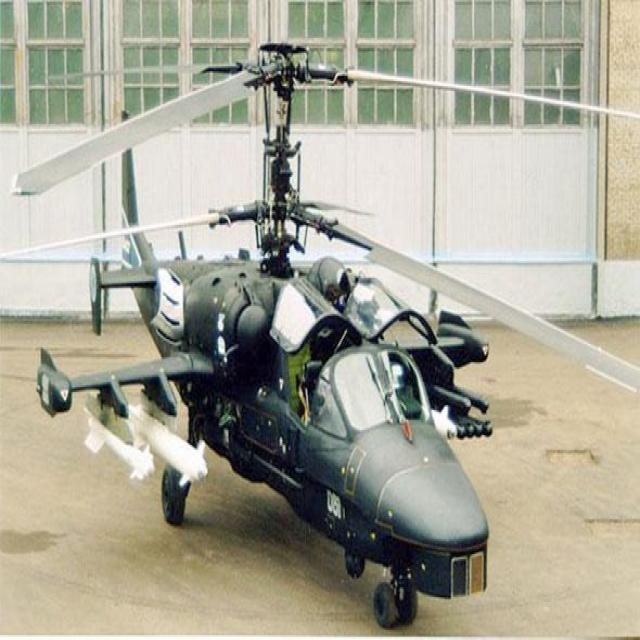MIL_HELO: (11, 25, 640, 625)
